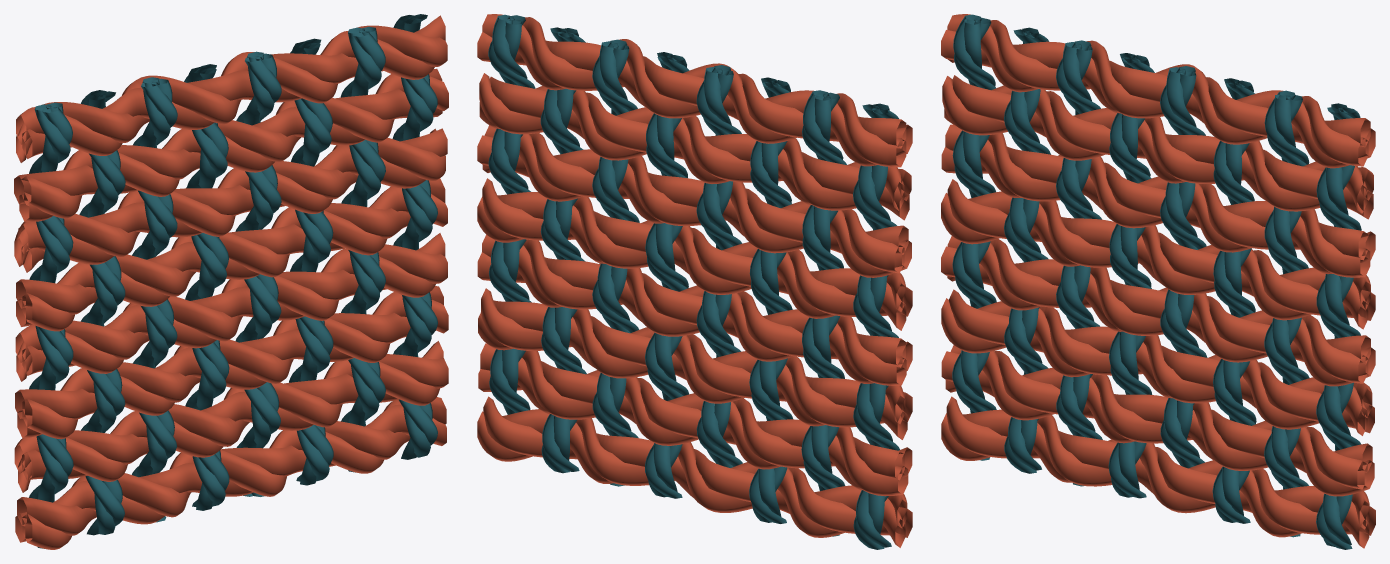
File: weave-tile.gltf
The picture shows the model from 3 angles, left to right: view 1: azimuth 30°, elevation 25°; view 2: azimuth 150°, elevation 25°; view 3: azimuth 330°, elevation 25°; orthographic projection.
Parts seen in each view (by area): view 1: Blender cotton weft, Blender cotton warp; view 2: Blender cotton weft, Blender cotton warp; view 3: Blender cotton weft, Blender cotton warp.
Boxes of the visible parts, bbox=[...] form: Blender cotton weft: bbox=[14, 15, 448, 549]; Blender cotton warp: bbox=[29, 14, 437, 548]; Blender cotton weft: bbox=[477, 14, 912, 547]; Blender cotton warp: bbox=[488, 14, 899, 549]; Blender cotton weft: bbox=[941, 14, 1375, 548]; Blender cotton warp: bbox=[952, 14, 1361, 549].
Bounding box in the file's own units: 0.128 × 0.128 × 0.0201.
